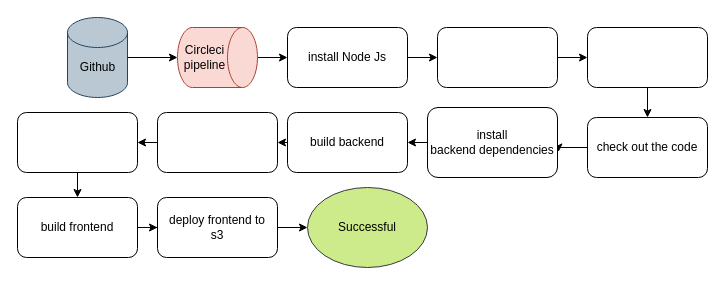
Image size: 725x285. Some labels were removed from this diagram. Each missing label, with the centre of its shape:
configure aws cli: (x=647, y=57)
deploy backend to Elastic beanstalk: (x=217, y=142)
insall frontend dependencies: (x=77, y=142)
install aws cli: (x=497, y=57)
